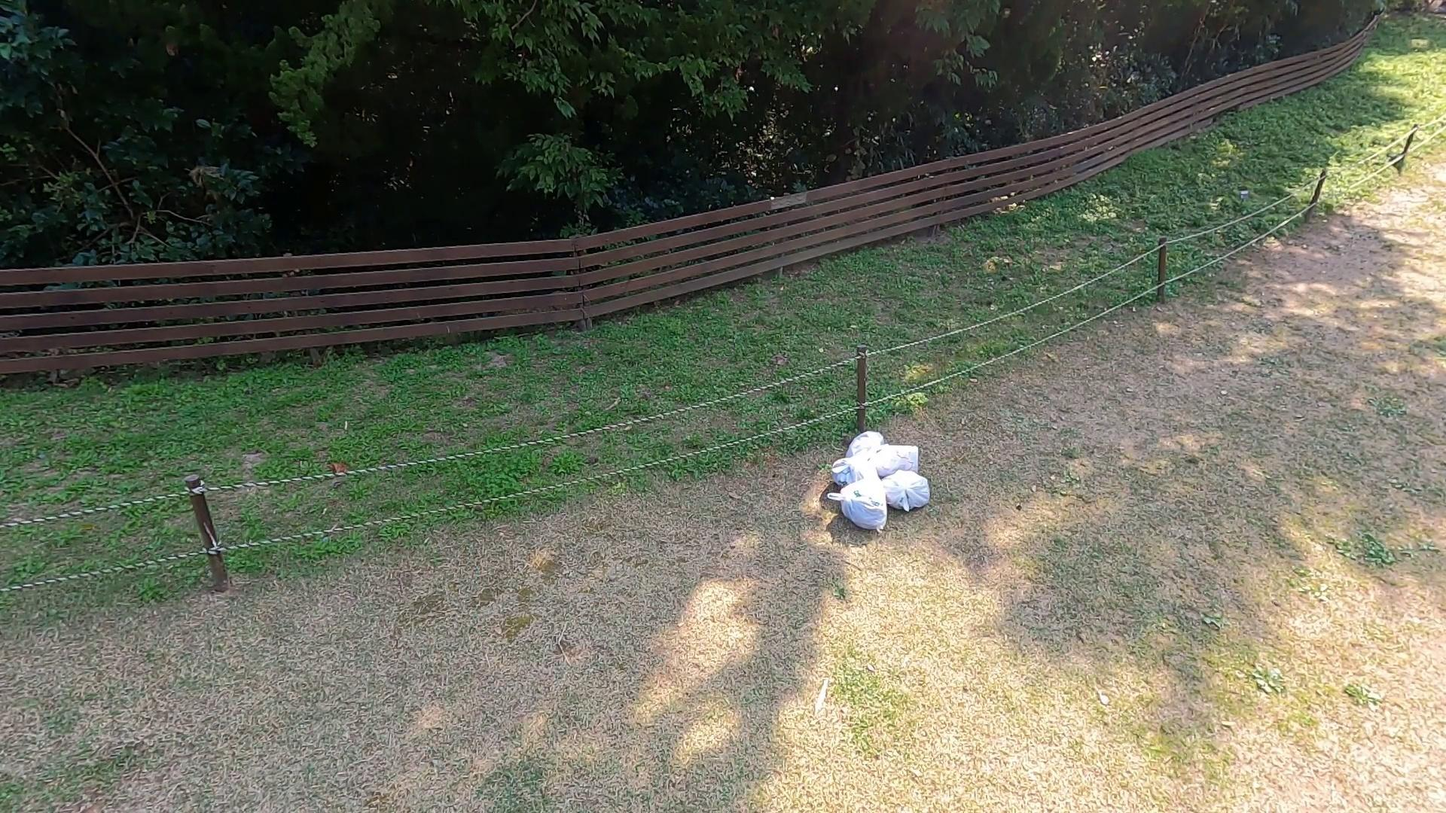trash: (832, 467, 890, 537), (877, 461, 933, 517), (859, 432, 920, 482), (832, 450, 882, 498), (843, 424, 884, 476)
